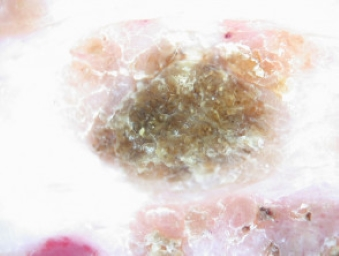seborrheic keratosis: (55, 20, 319, 203)
